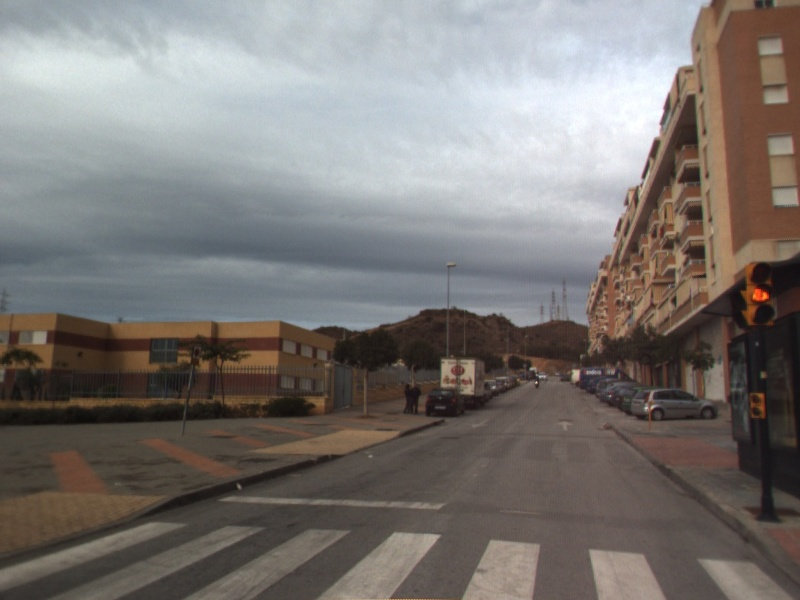STRAIGHT: (555, 418, 575, 432)
